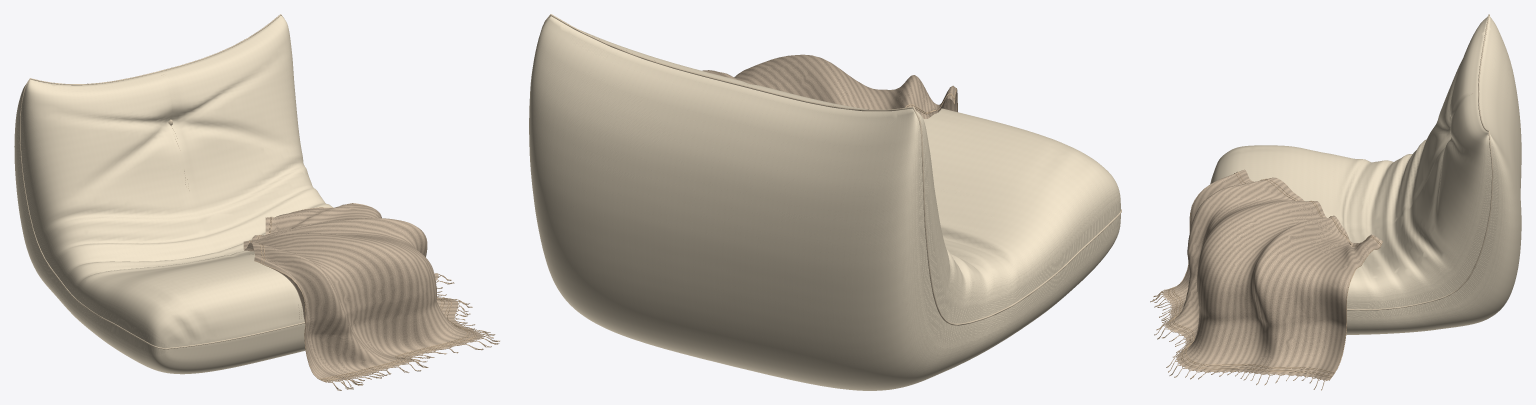
The model's file is floor-sofa.glb.
3 renders of one model, left to right at view 1: azimuth 30°, elevation 25°; view 2: azimuth 150°, elevation 25°; view 3: azimuth 270°, elevation 25°, orthographic. The views are drawn at different scales.
Parts seen in each view (by area): view 1: Linen_floor_sofa; view 2: Linen_floor_sofa; view 3: Linen_floor_sofa.
Part boxes in pixels (box(x1,y1,x2,y2)): Linen_floor_sofa: box(14, 14, 499, 390); Linen_floor_sofa: box(529, 14, 1121, 390); Linen_floor_sofa: box(1150, 14, 1521, 390).
Bounding box in the file's own units: 1.53 × 0.9338 × 1.43.
6 materials, 2 textured.
